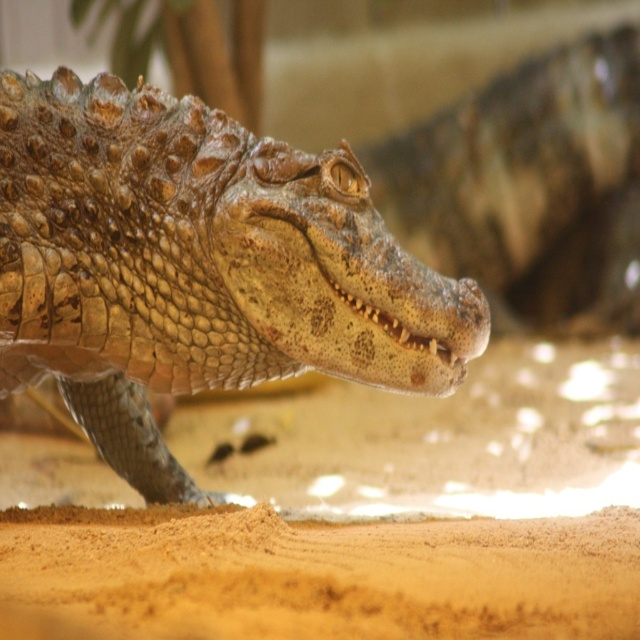Crocodile: (0, 66, 491, 508)
